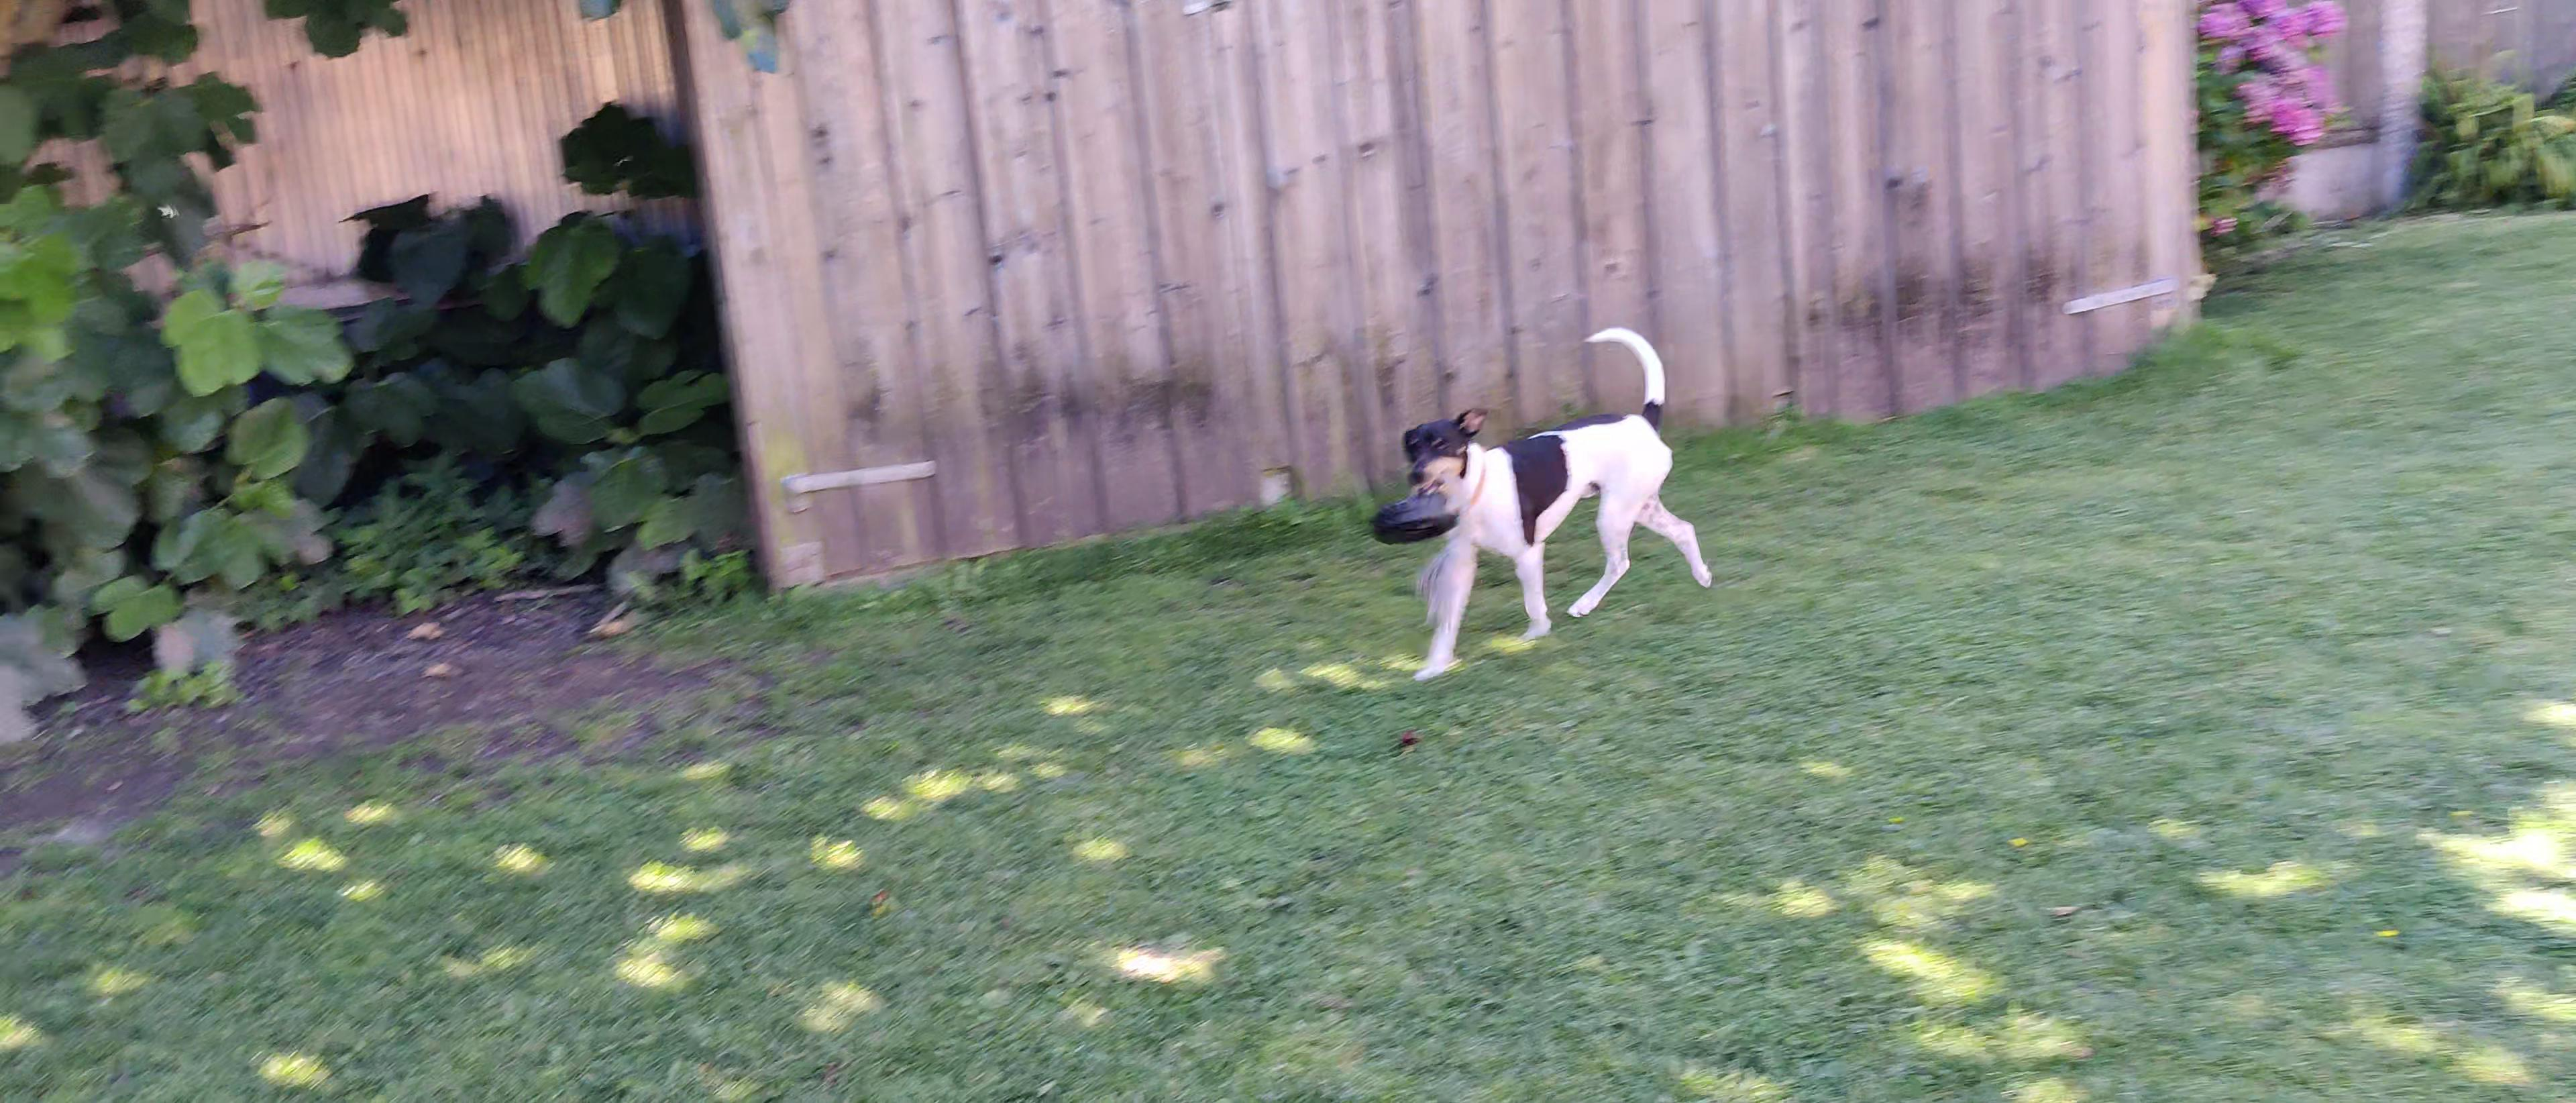Dog: (1378, 316, 1715, 689)
